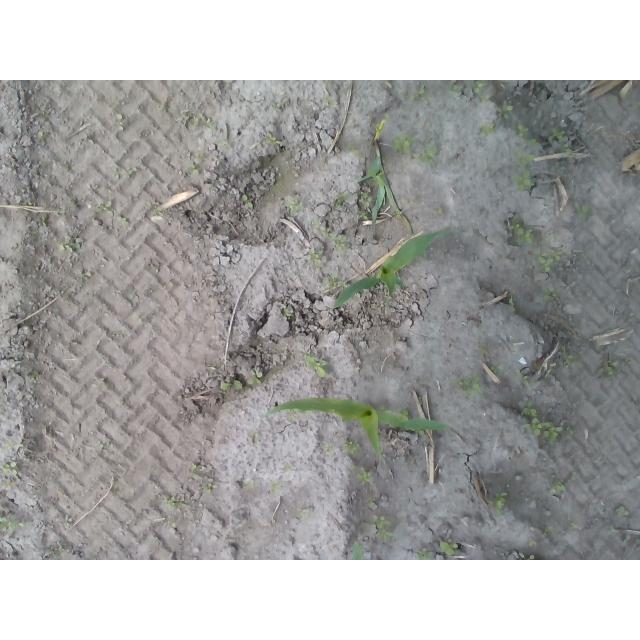Maize: (267, 392, 453, 465), (336, 230, 441, 315), (352, 137, 416, 231)
Weeds: (524, 400, 563, 444), (509, 218, 543, 247), (301, 348, 331, 379), (370, 510, 395, 543), (540, 474, 572, 499), (330, 233, 359, 260), (163, 485, 190, 513), (538, 249, 565, 276), (456, 375, 483, 398), (321, 439, 364, 453), (519, 122, 541, 146), (493, 102, 514, 126), (220, 377, 246, 396), (573, 201, 595, 223), (309, 218, 332, 239), (610, 500, 630, 524), (514, 166, 531, 194), (557, 351, 583, 369), (471, 81, 492, 103), (0, 513, 22, 534), (56, 238, 81, 256), (481, 117, 501, 139), (512, 370, 537, 386), (601, 360, 620, 381), (359, 466, 378, 487), (437, 541, 463, 556), (246, 366, 264, 387), (189, 456, 212, 472), (1, 461, 20, 480), (144, 199, 164, 217), (394, 132, 411, 153), (95, 201, 118, 216), (541, 285, 559, 304), (515, 151, 535, 168), (423, 145, 441, 163), (283, 195, 301, 213), (263, 132, 281, 149), (492, 493, 511, 509), (409, 86, 427, 102), (416, 548, 438, 561), (239, 194, 256, 210), (446, 81, 464, 96), (551, 126, 566, 142), (309, 249, 324, 265), (188, 162, 202, 179), (357, 193, 370, 211), (27, 370, 42, 384), (526, 536, 540, 549), (565, 520, 579, 533), (117, 213, 130, 227), (38, 214, 51, 227), (334, 197, 345, 212), (120, 167, 136, 177), (280, 309, 293, 320), (206, 484, 217, 493), (436, 208, 445, 217)
